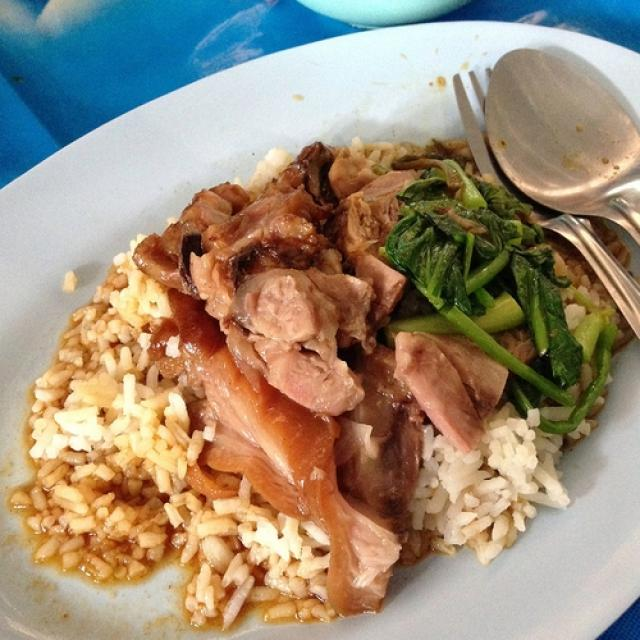猪肉菜式: (15, 42, 626, 618)
